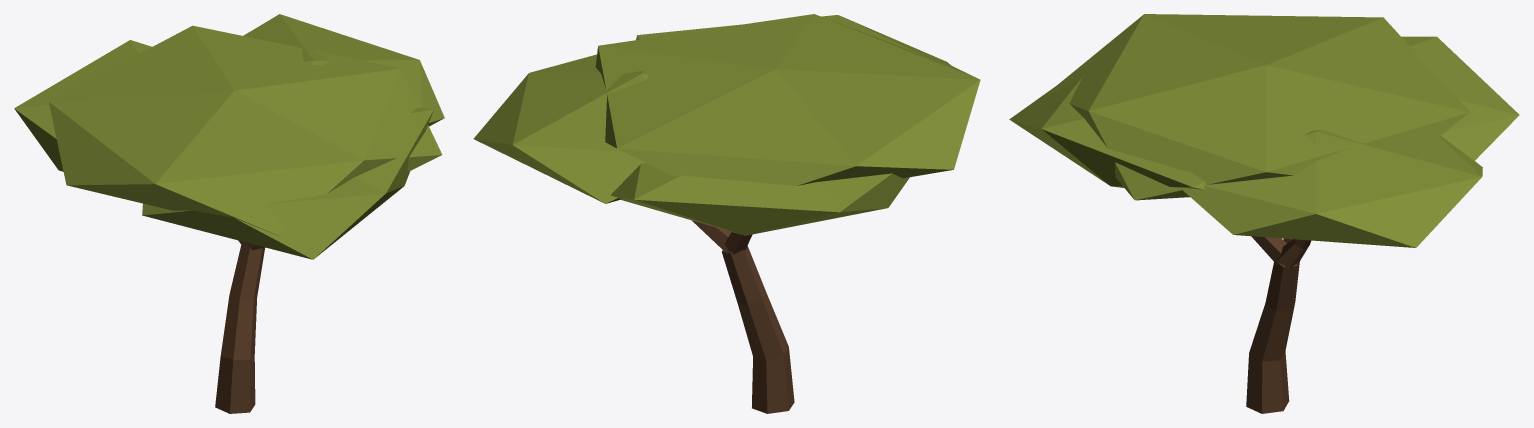
File: Tree_Acacia_A.glb
3 views of the same model, side by side, from view 1: azimuth 30°, elevation 25°; view 2: azimuth 150°, elevation 25°; view 3: azimuth 270°, elevation 25° (orthographic). The views are drawn at different scales.
Visible parts, largest first — view 1: Tree_Acacia_A; view 2: Tree_Acacia_A; view 3: Tree_Acacia_A.
Boxes of the visible parts, x1=… form: Tree_Acacia_A: x1=14, y1=14, x2=444, y2=413; Tree_Acacia_A: x1=473, y1=14, x2=980, y2=413; Tree_Acacia_A: x1=1009, y1=14, x2=1519, y2=413.
Size of the model in its own units: 4.23 by 3.36 by 4.58.
